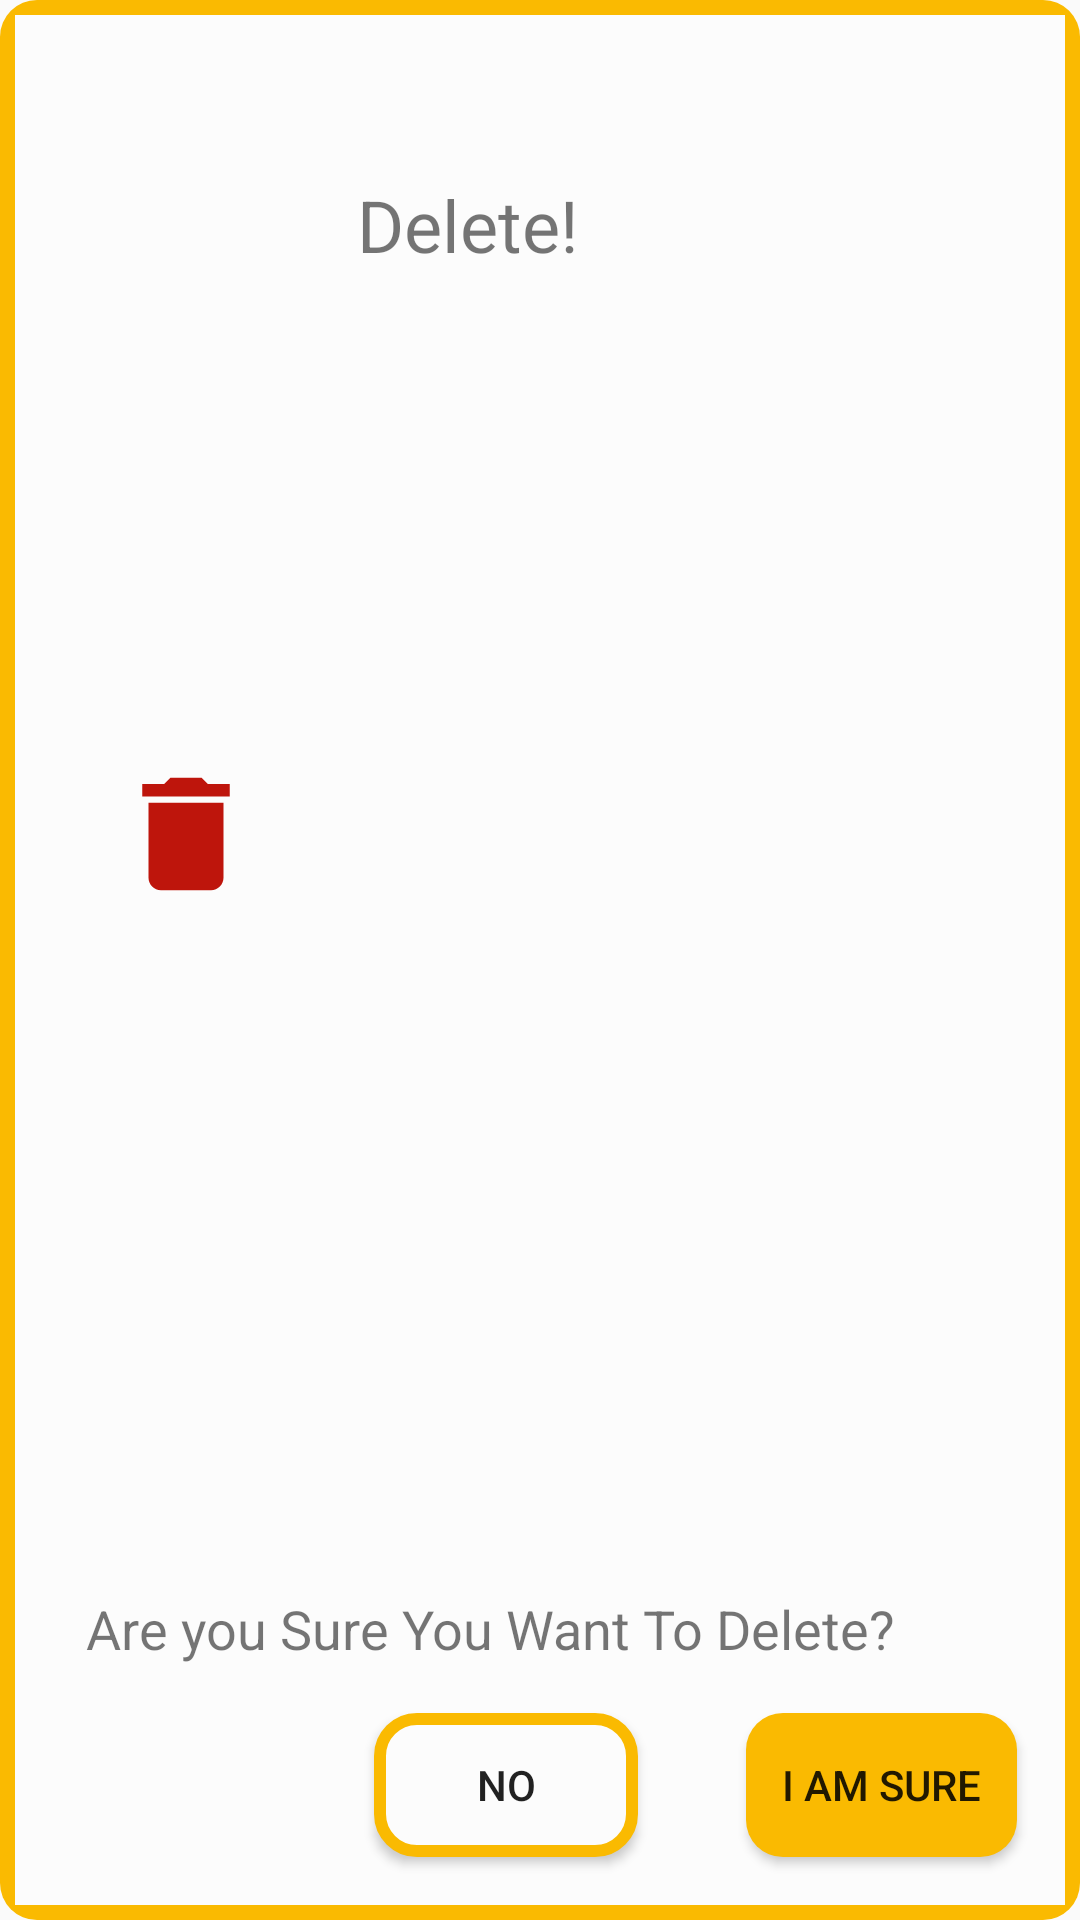

Named icons in this screenshot (1080 x 1920) and their bounding boxes, (x1, y1, x2, y2):
delete: (142, 777, 230, 891)
